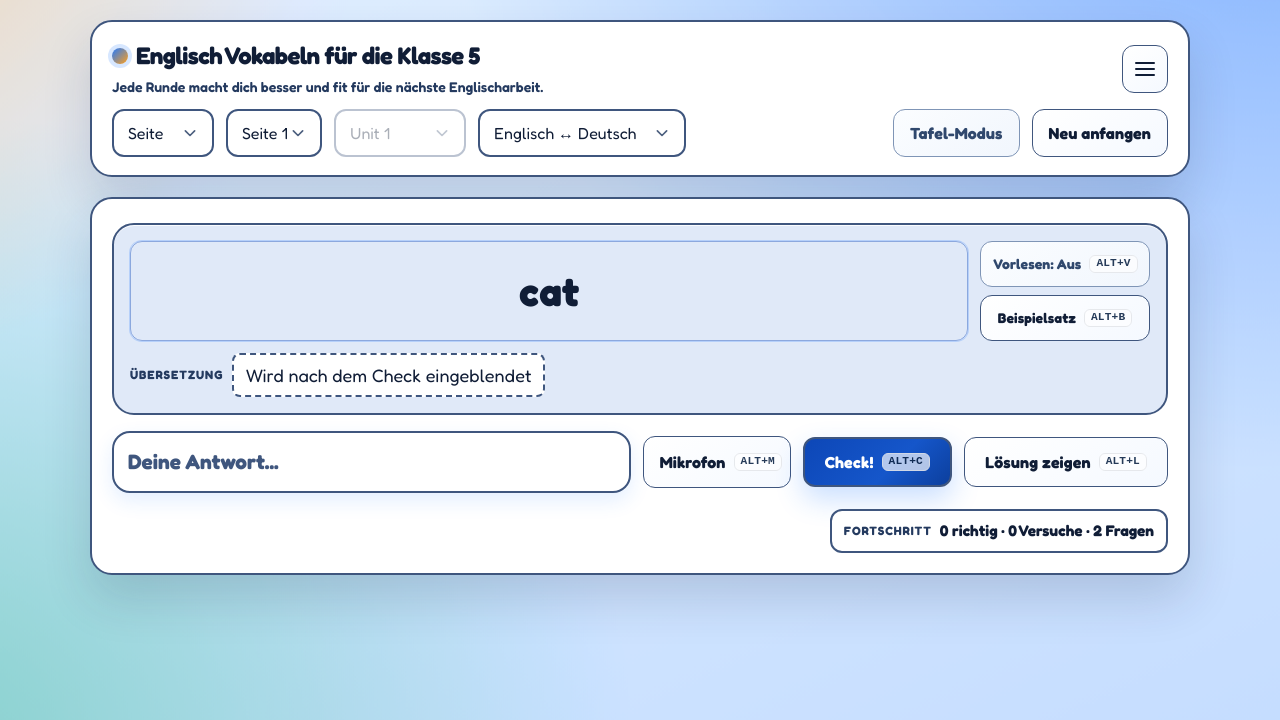
Test case: App › toggles between page and unit filters and disables the inactive select
The width and height of the screenshot is (1280, 720).
Expected: the dropdown named "Seite" is enabled, top-left (226, 109), bottom-right (322, 157)
Expected: the dropdown named "Unit" is disabled, top-left (334, 109), bottom-right (466, 157)
Select "Unit" in the dropdown named "Filter" at (163, 133), box top-left (112, 109), bottom-right (214, 157)
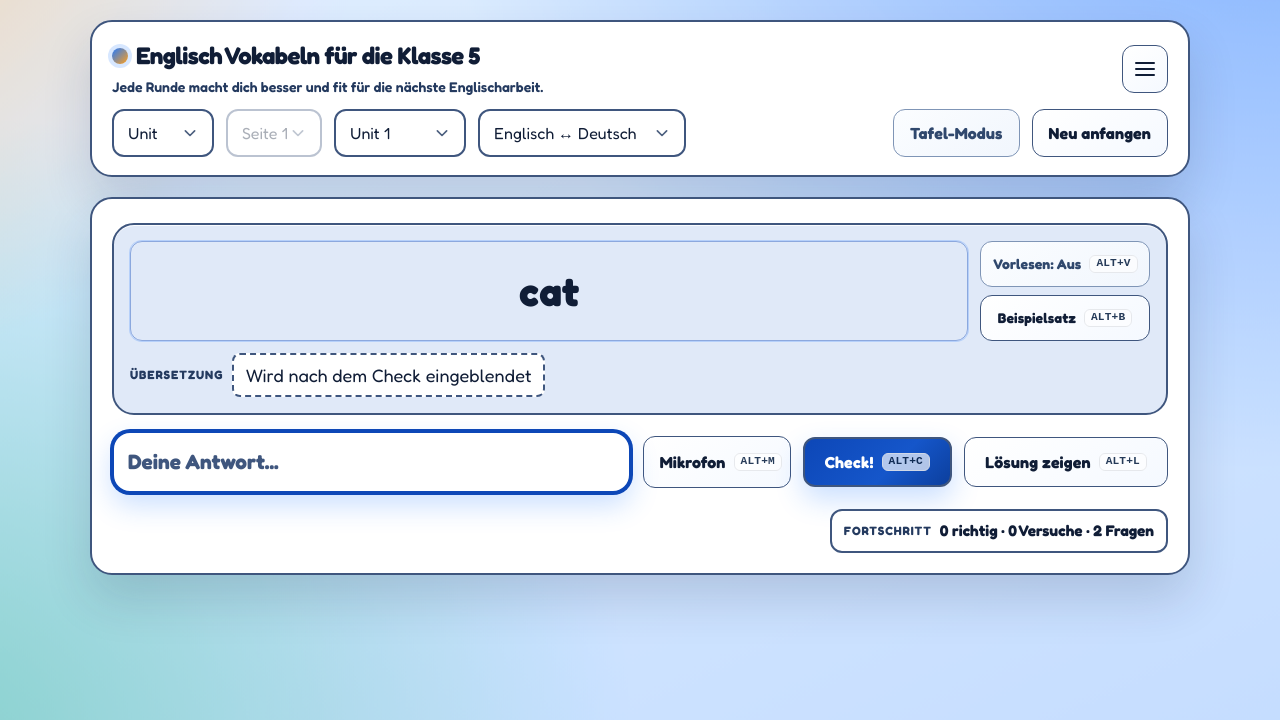
Expected: the dropdown named "Seite" is disabled, top-left (226, 109), bottom-right (322, 157)
Expected: the dropdown named "Unit" is enabled, top-left (334, 109), bottom-right (466, 157)
Select "Seite" in the dropdown named "Filter" at (163, 133), box top-left (112, 109), bottom-right (214, 157)
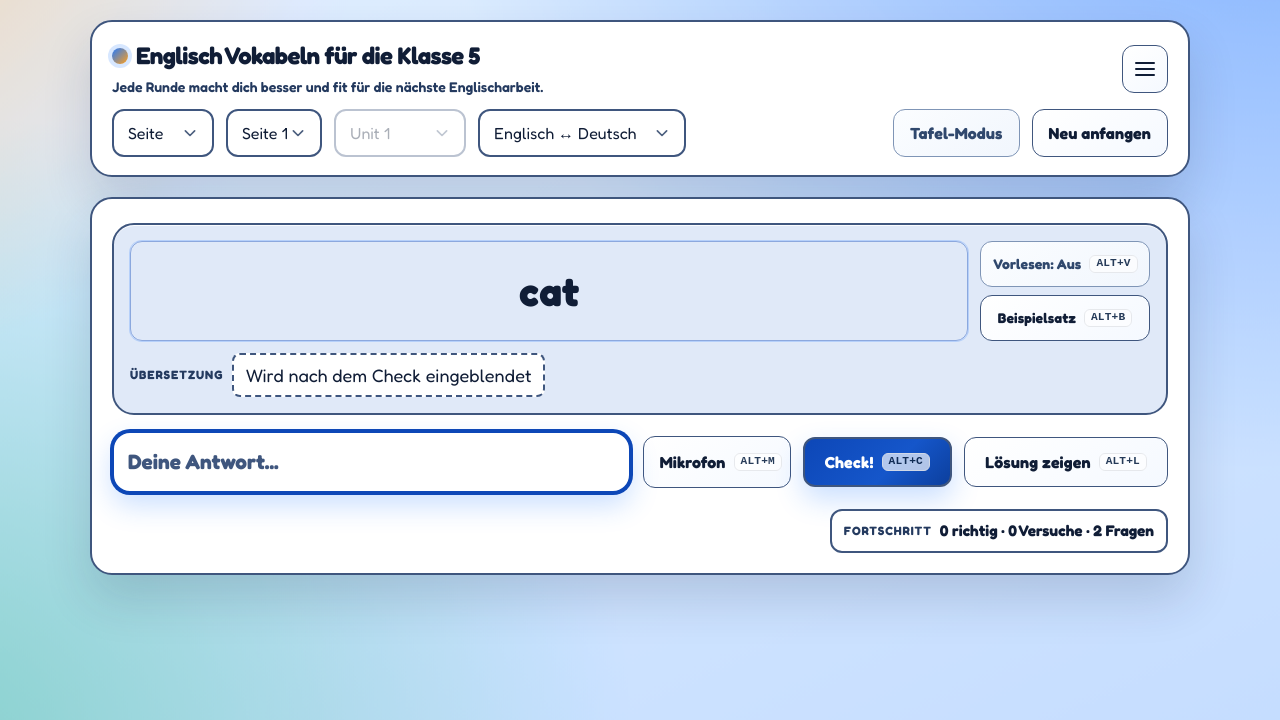
Expected: the dropdown named "Seite" is enabled, top-left (226, 109), bottom-right (322, 157)
Expected: the dropdown named "Unit" is disabled, top-left (334, 109), bottom-right (466, 157)
